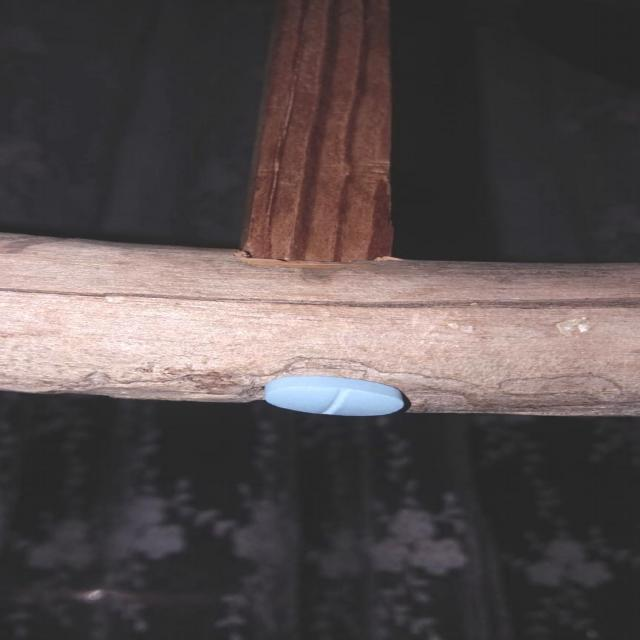pill: (264, 372, 407, 420)
